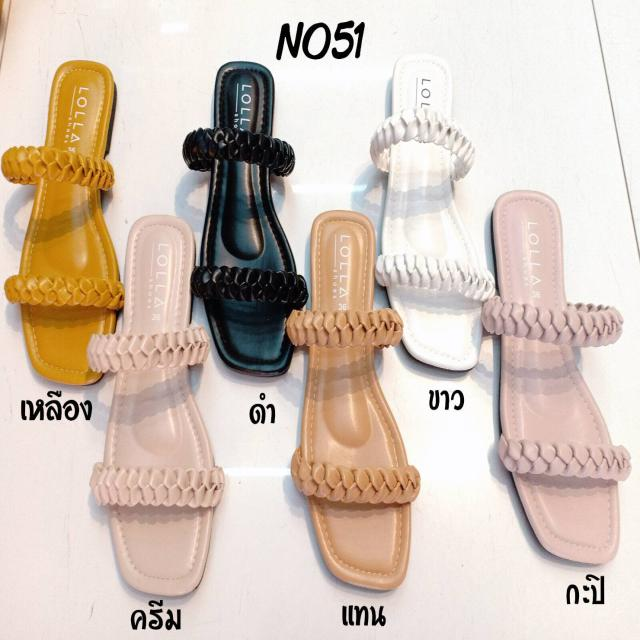black: (202, 62, 304, 378)
cream: (105, 222, 214, 598)
kapi: (487, 187, 619, 555)
tan: (296, 212, 415, 587)
white: (382, 54, 484, 370)
yellow: (20, 61, 117, 384)
